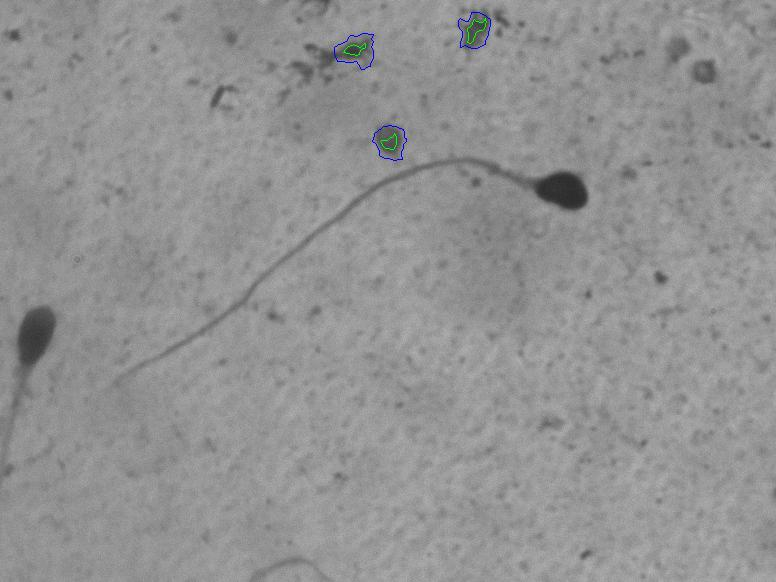Abnormal: (271, 135, 638, 373)
